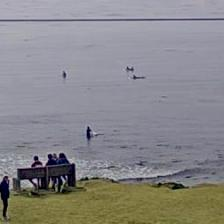surfer: (86, 126, 92, 137), (132, 75, 145, 80), (125, 66, 134, 72), (62, 71, 67, 79)
